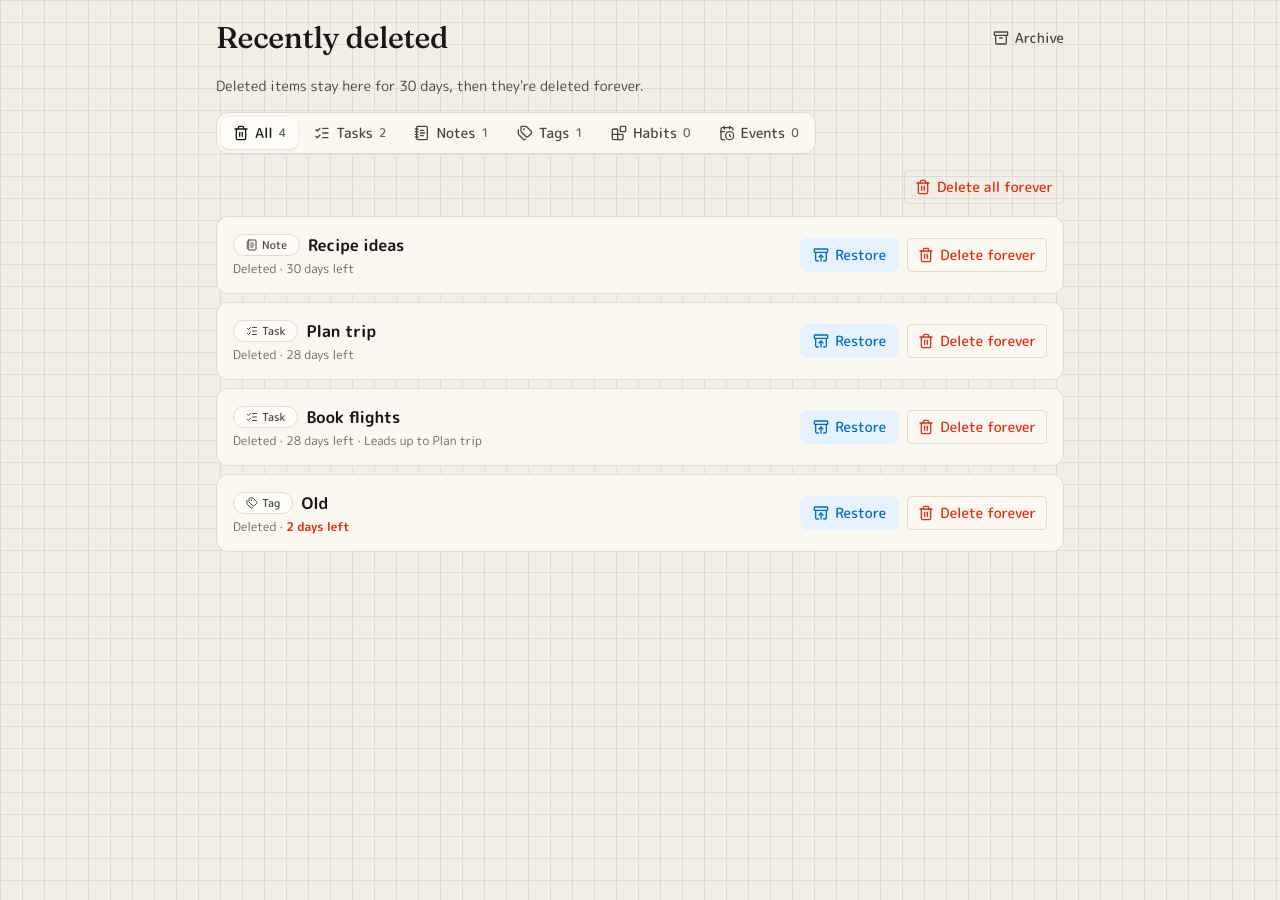
TrashView › hides Delete all forever when nothing is shown
Click the button "Habits 0": (651, 133) [599,117,703,149]
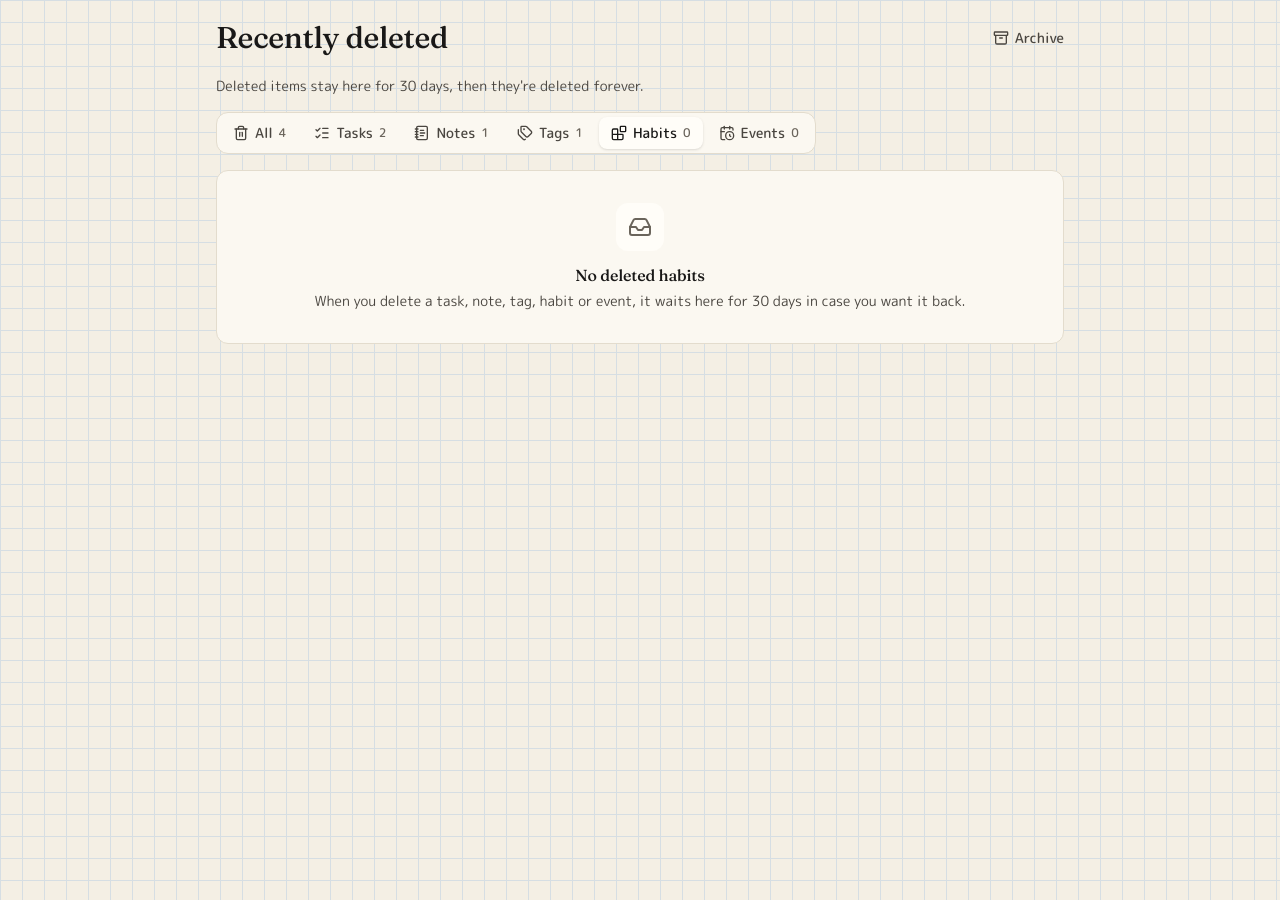
Expected: the text "Delete all forever" is gone
